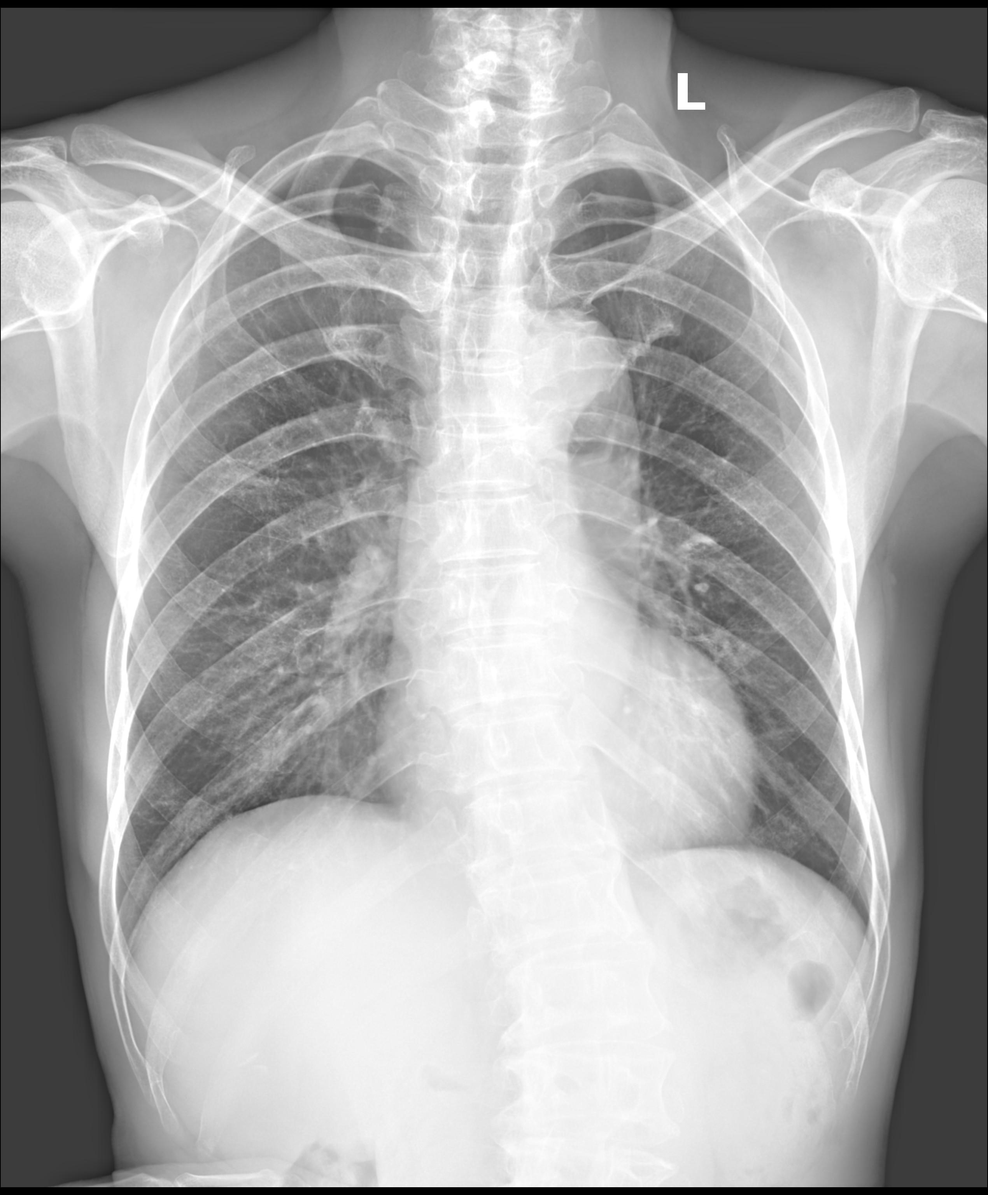Aortic enlargement: (487, 308, 638, 468)
